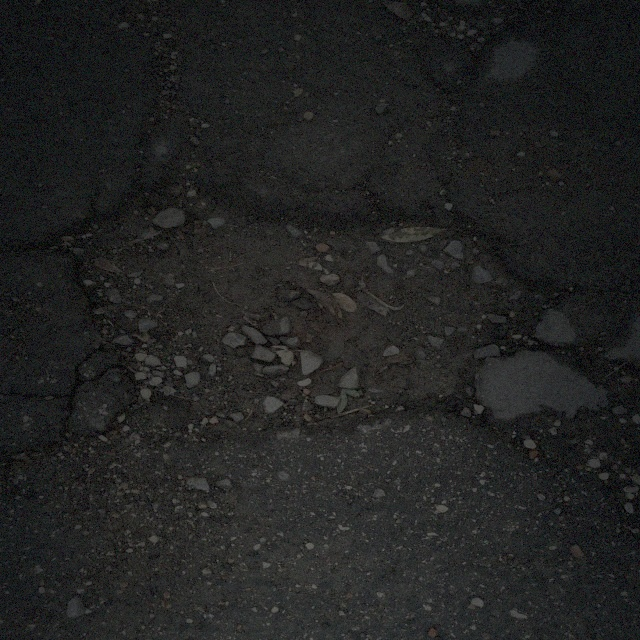pothole: (67, 146, 533, 467)
